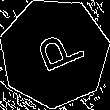P_SW: (24, 26, 84, 80)
